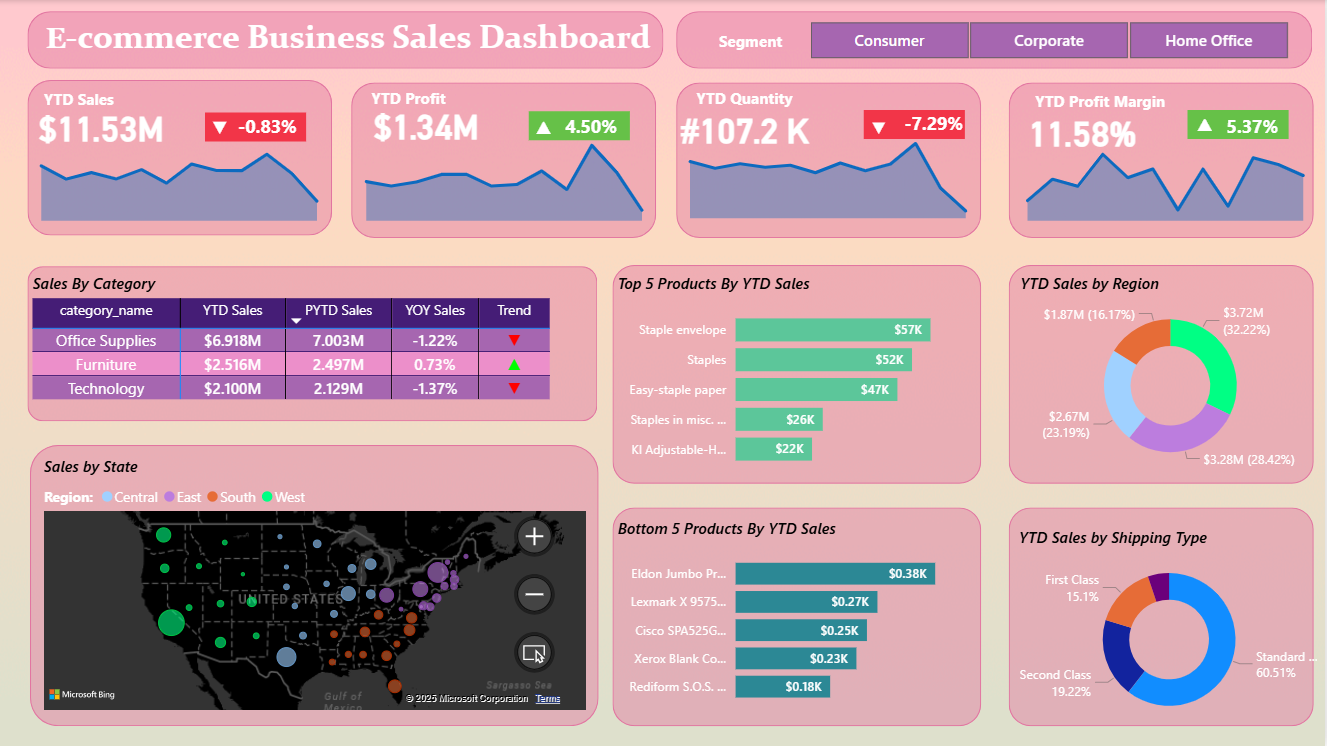

What the dashboard file says about the page in this screenshot:
{"tool":"powerbi","page":{"name":"Page 1","canvas":[1280,720],"ordinal":0},"visuals":[{"type":"shape","box":[197.6,108.5,97.7,27.7],"z":0},{"type":"shape","box":[26.5,10.9,613.9,55.5],"z":1000},{"type":"textbox","box":[0,10.9,667.2,51.9],"z":2000},{"type":"shape","box":[26.5,77.4,294,150],"z":3000},{"type":"card","fields":{"Values":["ecommerce_data.YTD Sales"]},"box":[16.7,94.1,161.6,55.5],"z":4000},{"type":"areaChart","fields":{"Category":["Calender.Month"],"Y":["Sum(ecommerce_data.sales_per_order)"]},"box":[25.3,124.2,295.5,94.1],"z":5000},{"type":"card","fields":{"Values":["ecommerce_data.YOY Sales"]},"box":[212.1,100.1,91.7,47],"z":6000},{"type":"card","fields":{"Values":["ecommerce_data.Sales Icon"]},"box":[197.6,108.5,28.9,24.1],"z":7000},{"type":"textbox","box":[37.4,80.8,94.1,30.2],"z":8000},{"type":"shape","box":[510.5,107.9,97.7,27.7],"z":9000},{"type":"shape","box":[338.7,79.6,294.3,150],"z":10000},{"type":"card","fields":{"Values":["ecommerce_data.YTD Profit"]},"box":[330.2,92.9,161.6,55.5],"z":11000},{"type":"areaChart","fields":{"Category":["Calender.Month"],"Y":["Sum(ecommerce_data.profit_per_order)"]},"box":[338.7,124.2,295.5,94.1],"z":12000},{"type":"card","fields":{"Values":["ecommerce_data.YOY Profit"]},"box":[524.4,100.1,91.7,47],"z":13000},{"type":"card","fields":{"Values":["ecommerce_data.Profit Icon"]},"box":[509.9,108.5,28.9,24.1],"z":14000},{"type":"textbox","box":[353.2,79.6,94.1,30.2],"z":15000},{"type":"card","fields":{"Values":["ecommerce_data.Ouantity Icon"]},"box":[496.9,319.6,349.7,12.1],"z":16000},{"type":"shape","box":[26.5,256.9,549.9,149.5],"z":17000},{"type":"pivotTable","title":"Sales By Category","fields":{"Rows":["ecommerce_data.category_name"],"Values":["ecommerce_data.YTD Sales","ecommerce_data.PYTD Sales","ecommerce_data.YOY Sales","ecommerce_data.Sales Icon"]},"box":[26.5,263,551.3,137.5],"z":18000},{"type":"shape","box":[28.9,429.3,548.7,271.4],"z":19000},{"type":"map","title":"Sales by State","fields":{"Y":["us_state_long_lat_codes.latitude"],"X":["us_state_long_lat_codes.longitude"],"Size":["ecommerce_data.YTD Sales"],"Series":["ecommerce_data.customer_region"]},"box":[37.4,439.1,533.2,250.9],"z":20000},{"type":"shape","box":[833.2,106.1,97.7,27.7],"z":21000},{"type":"shape","box":[652.3,79.6,294.3,150],"z":22000},{"type":"card","fields":{"Values":["ecommerce_data.YTD Concatenated Qty"]},"box":[637.7,96.1,161.6,55.5],"z":23000},{"type":"areaChart","fields":{"Category":["Calender.Month"],"Y":["Sum(ecommerce_data.order_quantity)"]},"box":[651.1,121.8,295.5,94.1],"z":24000},{"type":"card","fields":{"Values":["ecommerce_data.YOY Quantity"]},"box":[854.9,97.7,91.7,47],"z":25000},{"type":"textbox","box":[666.7,79.6,114.6,41],"z":26000},{"type":"card","fields":{"Values":["ecommerce_data.Ouantity Icon"]},"box":[832.9,108.4,31.6,23.3],"z":27000},{"type":"shape","box":[1145.5,106.1,97.7,27.7],"z":28000},{"type":"shape","box":[973.1,79.6,294.3,150],"z":29000},{"type":"card","fields":{"Values":["ecommerce_data.YTD Profit Margin"]},"box":[964.1,98.4,161.6,55.5],"z":30000},{"type":"areaChart","fields":{"Category":["Calender.Month"],"Y":["ecommerce_data.Profit Margin"]},"box":[977.5,124.1,295.5,94.1],"z":31000},{"type":"card","fields":{"Values":["ecommerce_data.YOY Profit Margin"]},"box":[1162.4,100.1,91.7,47],"z":32000},{"type":"textbox","box":[993.6,82,166.4,41],"z":33000},{"type":"card","fields":{"Values":["ecommerce_data.Profit Margin Icon"]},"box":[1146.7,106.1,31.4,24.1],"z":34000},{"type":"shape","box":[591,255.7,355.8,211.1],"z":35000},{"type":"shape","box":[591,489.6,355.8,211.1],"z":36000},{"type":"shape","box":[973.3,255.7,294.3,211.1],"z":37000},{"type":"shape","box":[973.3,489.6,294.3,211.1],"z":38000},{"type":"barChart","title":"Top 5 Products By YTD Sales","fields":{"Category":["ecommerce_data.product_name"],"Y":["ecommerce_data.YTD Sales"]},"box":[591.2,263,355.9,199.1],"z":39000},{"type":"barChart","title":"Bottom 5 Products By YTD Sales","fields":{"Category":["ecommerce_data.product_name"],"Y":["ecommerce_data.YTD Sales"]},"box":[591.2,499.5,355.9,190.6],"z":40000},{"type":"donutChart","title":"YTD Sales by Region","fields":{"Category":["ecommerce_data.customer_region"],"Y":["ecommerce_data.YTD Sales"]},"box":[979.3,262.9,300.3,199],"z":41000},{"type":"donutChart","title":"YTD Sales by Shipping Type","fields":{"Y":["ecommerce_data.YTD Sales"],"Category":["ecommerce_data.shipping_type"]},"box":[978.1,507.7,300.3,199],"z":42000},{"type":"shape","box":[652.5,10.9,613.9,55.5],"z":43000},{"type":"slicer","fields":{"Values":["ecommerce_data.customer_segment"]},"box":[756.2,14.5,510.2,48.2],"z":44000},{"type":"textbox","box":[666.9,24.1,114.6,38.6],"z":45000}]}

Visuals, with their boxes in screenshot pixels (x1, y1, x2, y2), scaled from the page's 1280x720 canvas onto the 1327x746 screenshot:
shape: (left=205, top=112, right=306, bottom=141)
shape: (left=27, top=11, right=664, bottom=69)
textbox: (left=0, top=11, right=692, bottom=65)
shape: (left=27, top=80, right=332, bottom=236)
card - ecommerce_data.YTD Sales: (left=17, top=97, right=185, bottom=155)
areaChart - Calender.Month x Sum(ecommerce_data.sales_per_order): (left=26, top=129, right=333, bottom=226)
card - ecommerce_data.YOY Sales: (left=220, top=104, right=315, bottom=152)
card - ecommerce_data.Sales Icon: (left=205, top=112, right=235, bottom=137)
textbox: (left=39, top=84, right=136, bottom=115)
shape: (left=529, top=112, right=631, bottom=140)
shape: (left=351, top=82, right=656, bottom=238)
card - ecommerce_data.YTD Profit: (left=342, top=96, right=510, bottom=154)
areaChart - Calender.Month x Sum(ecommerce_data.profit_per_order): (left=351, top=129, right=657, bottom=226)
card - ecommerce_data.YOY Profit: (left=544, top=104, right=639, bottom=152)
card - ecommerce_data.Profit Icon: (left=529, top=112, right=559, bottom=137)
textbox: (left=366, top=82, right=464, bottom=114)
card - ecommerce_data.Ouantity Icon: (left=515, top=331, right=878, bottom=344)
shape: (left=27, top=266, right=598, bottom=421)
"Sales By Category" pivotTable: (left=27, top=272, right=599, bottom=415)
shape: (left=30, top=445, right=599, bottom=726)
"Sales by State" map: (left=39, top=455, right=592, bottom=715)
shape: (left=864, top=110, right=965, bottom=139)
shape: (left=676, top=82, right=981, bottom=238)
card - ecommerce_data.YTD Concatenated Qty: (left=661, top=100, right=829, bottom=157)
areaChart - Calender.Month x Sum(ecommerce_data.order_quantity): (left=675, top=126, right=981, bottom=224)
card - ecommerce_data.YOY Quantity: (left=886, top=101, right=981, bottom=150)
textbox: (left=691, top=82, right=810, bottom=125)
card - ecommerce_data.Ouantity Icon: (left=863, top=112, right=896, bottom=136)
shape: (left=1188, top=110, right=1289, bottom=139)
shape: (left=1009, top=82, right=1314, bottom=238)
card - ecommerce_data.YTD Profit Margin: (left=1000, top=102, right=1167, bottom=159)
areaChart - Calender.Month x ecommerce_data.Profit Margin: (left=1013, top=129, right=1320, bottom=226)
card - ecommerce_data.YOY Profit Margin: (left=1205, top=104, right=1300, bottom=152)
textbox: (left=1030, top=85, right=1203, bottom=127)
card - ecommerce_data.Profit Margin Icon: (left=1189, top=110, right=1221, bottom=135)
shape: (left=613, top=265, right=982, bottom=484)
shape: (left=613, top=507, right=982, bottom=726)
shape: (left=1009, top=265, right=1314, bottom=484)
shape: (left=1009, top=507, right=1314, bottom=726)
"Top 5 Products By YTD Sales" barChart: (left=613, top=272, right=982, bottom=479)
"Bottom 5 Products By YTD Sales" barChart: (left=613, top=518, right=982, bottom=715)
"YTD Sales by Region" donutChart: (left=1015, top=272, right=1326, bottom=479)
"YTD Sales by Shipping Type" donutChart: (left=1014, top=526, right=1325, bottom=732)
shape: (left=676, top=11, right=1313, bottom=69)
slicer - ecommerce_data.customer_segment: (left=784, top=15, right=1313, bottom=65)
textbox: (left=691, top=25, right=810, bottom=65)
